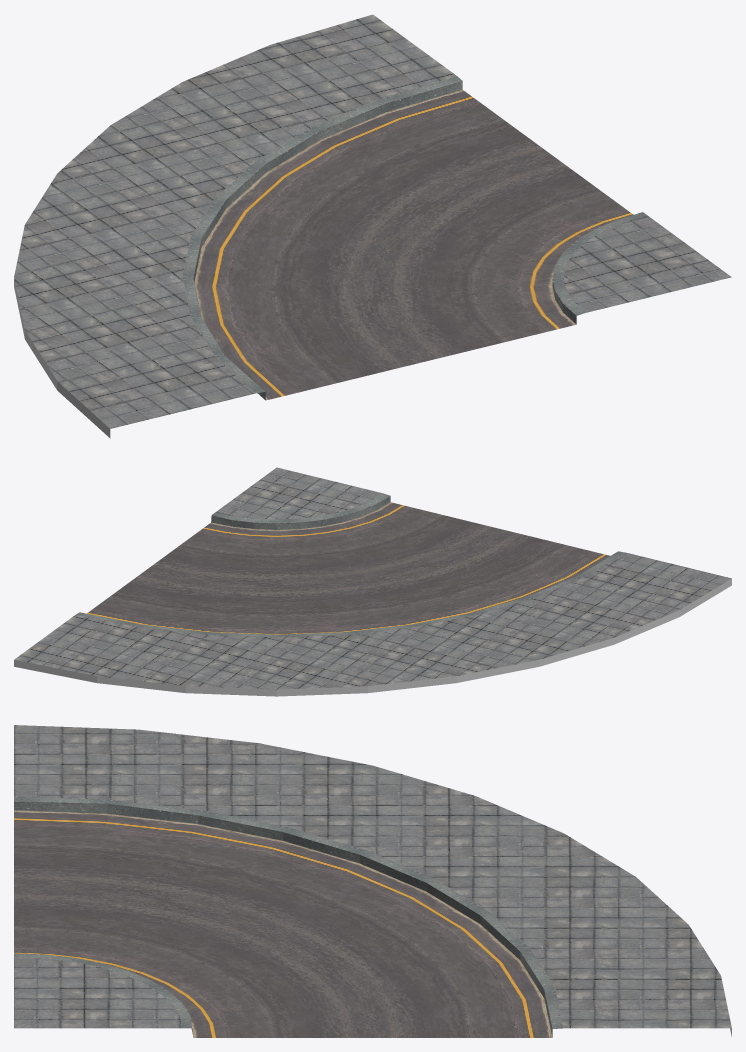
Rendered from road05.obj.
3 renders of one model, top to bottom at view 1: azimuth 30°, elevation 25°; view 2: azimuth 150°, elevation 25°; view 3: azimuth 270°, elevation 25°, orthographic. The views are drawn at different scales.
Visible parts, largest first — view 1: Plane.001; view 2: Plane.001; view 3: Plane.001.
Boxes of the visible parts, x1,y1,x2,y2 form: Plane.001: (14, 14, 731, 438); Plane.001: (14, 467, 731, 696); Plane.001: (14, 725, 731, 1037).
Bounding box in the file's own units: 2.29 × 0.0336 × 2.29.
